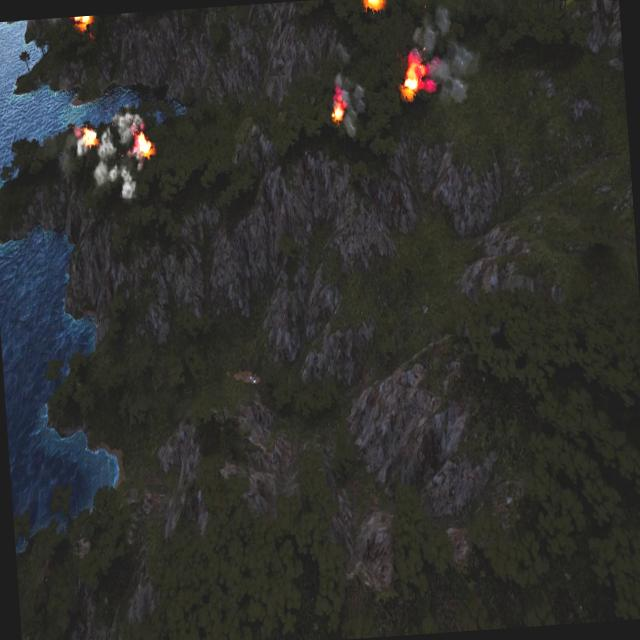fire: (398, 54, 428, 100), (328, 84, 348, 122), (133, 132, 153, 158), (82, 125, 98, 147), (73, 16, 94, 27), (362, 0, 385, 8)
smoke: (412, 3, 482, 107), (88, 106, 151, 206), (332, 72, 367, 138), (54, 124, 86, 178), (43, 16, 76, 26)
